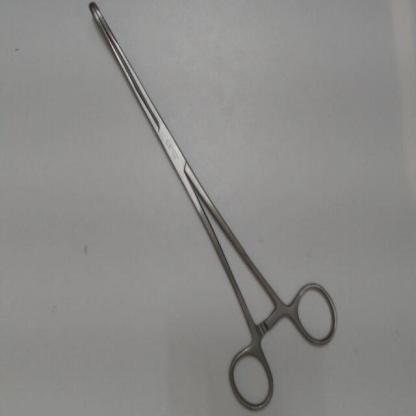Sponge Forceps: (86, 1, 343, 413)
